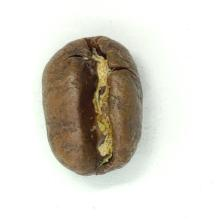NG: (64, 45, 129, 167)
